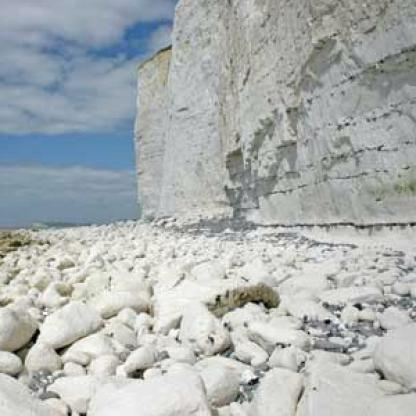Sedimentary_Chalk: (197, 42, 401, 202)
